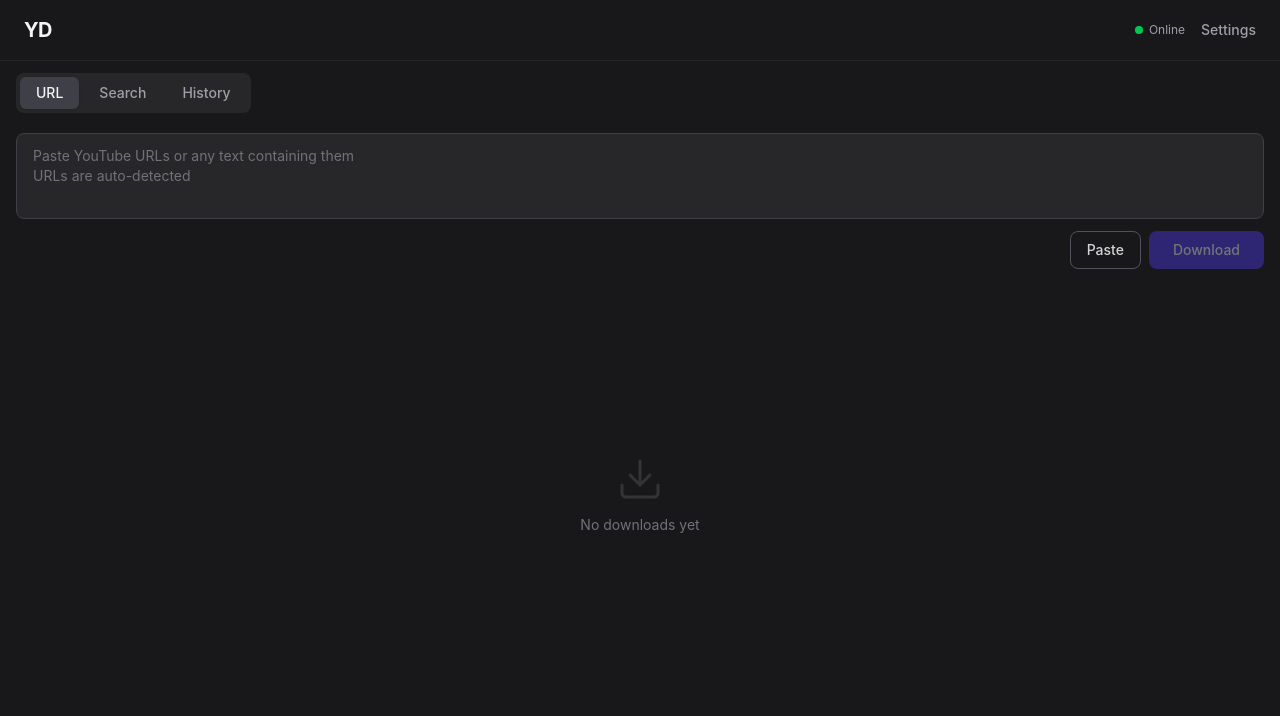
Test: App › marks the settings toggle expanded while the drawer is open
Click the button "Settings": (1229, 30) [1201, 20, 1256, 40]
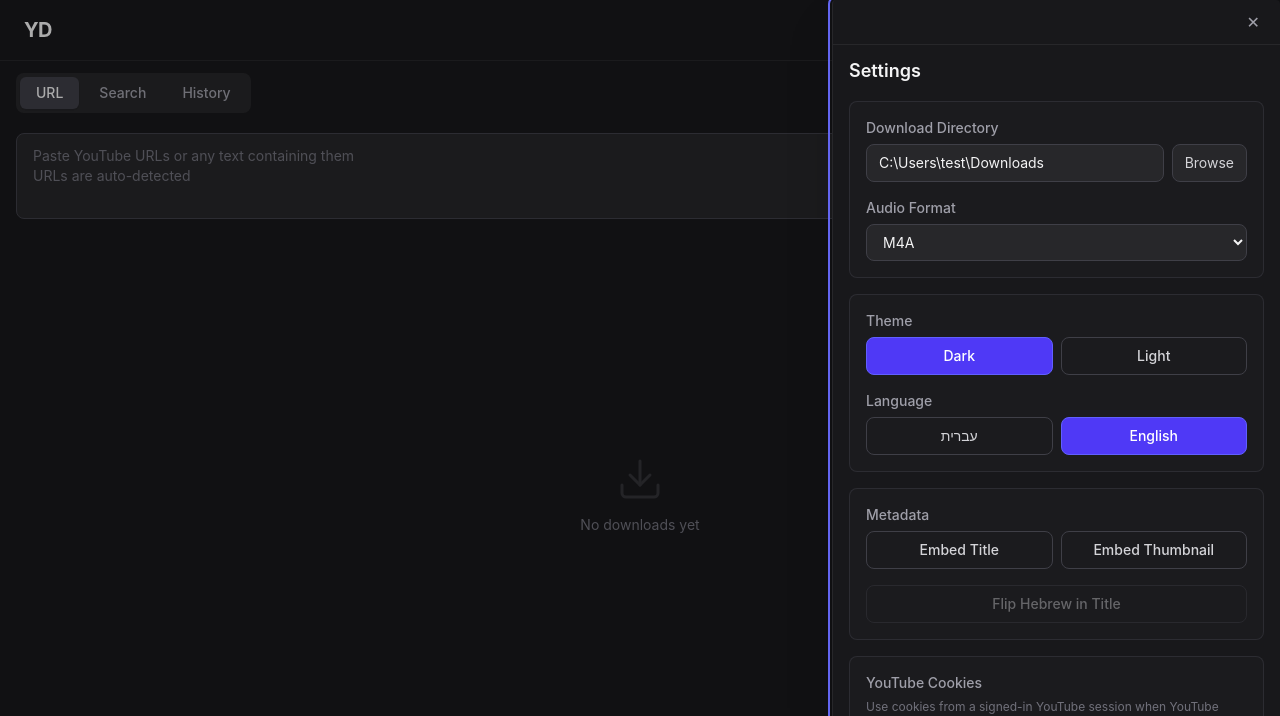
Expected: the button "Back" is expanded, [1223, 20, 1256, 40]
